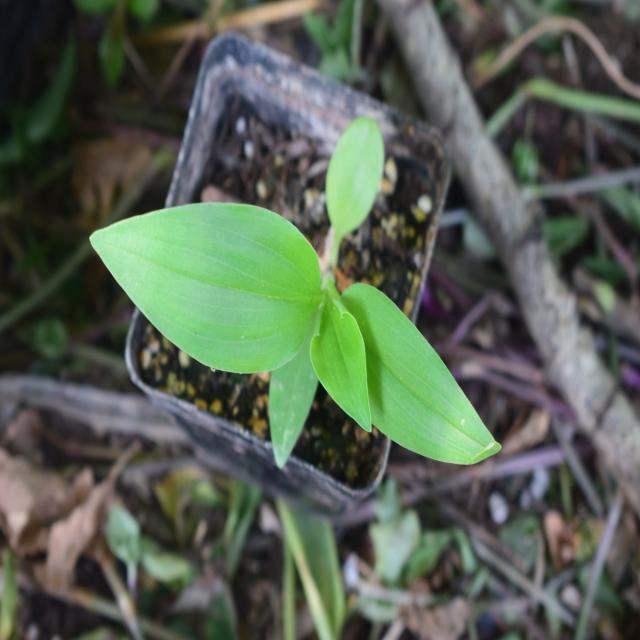Common Dayflower: (105, 159, 501, 507)
